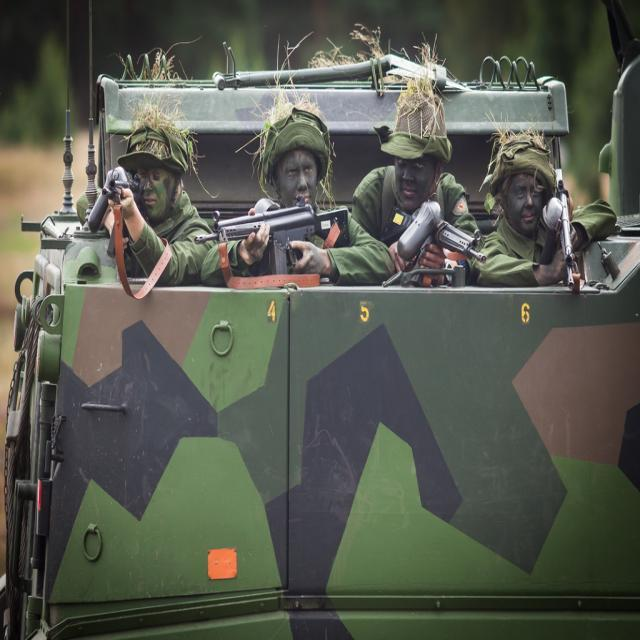weapon: (202, 190, 362, 286), (373, 200, 488, 286), (102, 174, 174, 300), (541, 162, 586, 293)
